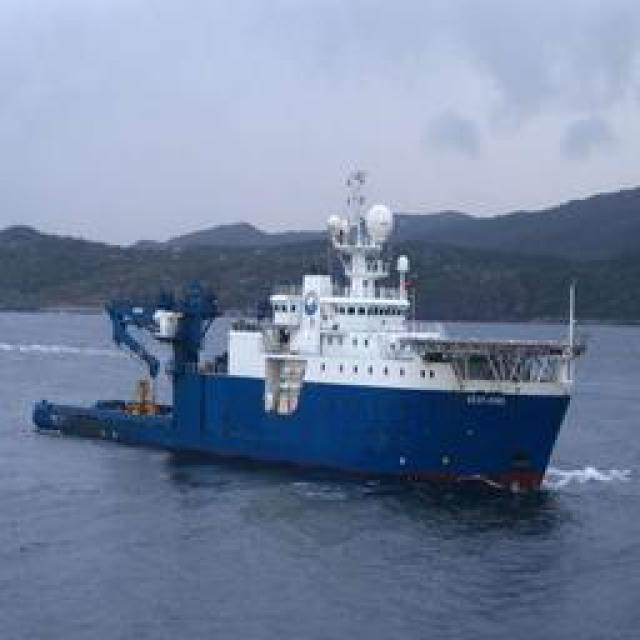CIV_Ship: (32, 208, 588, 490)
